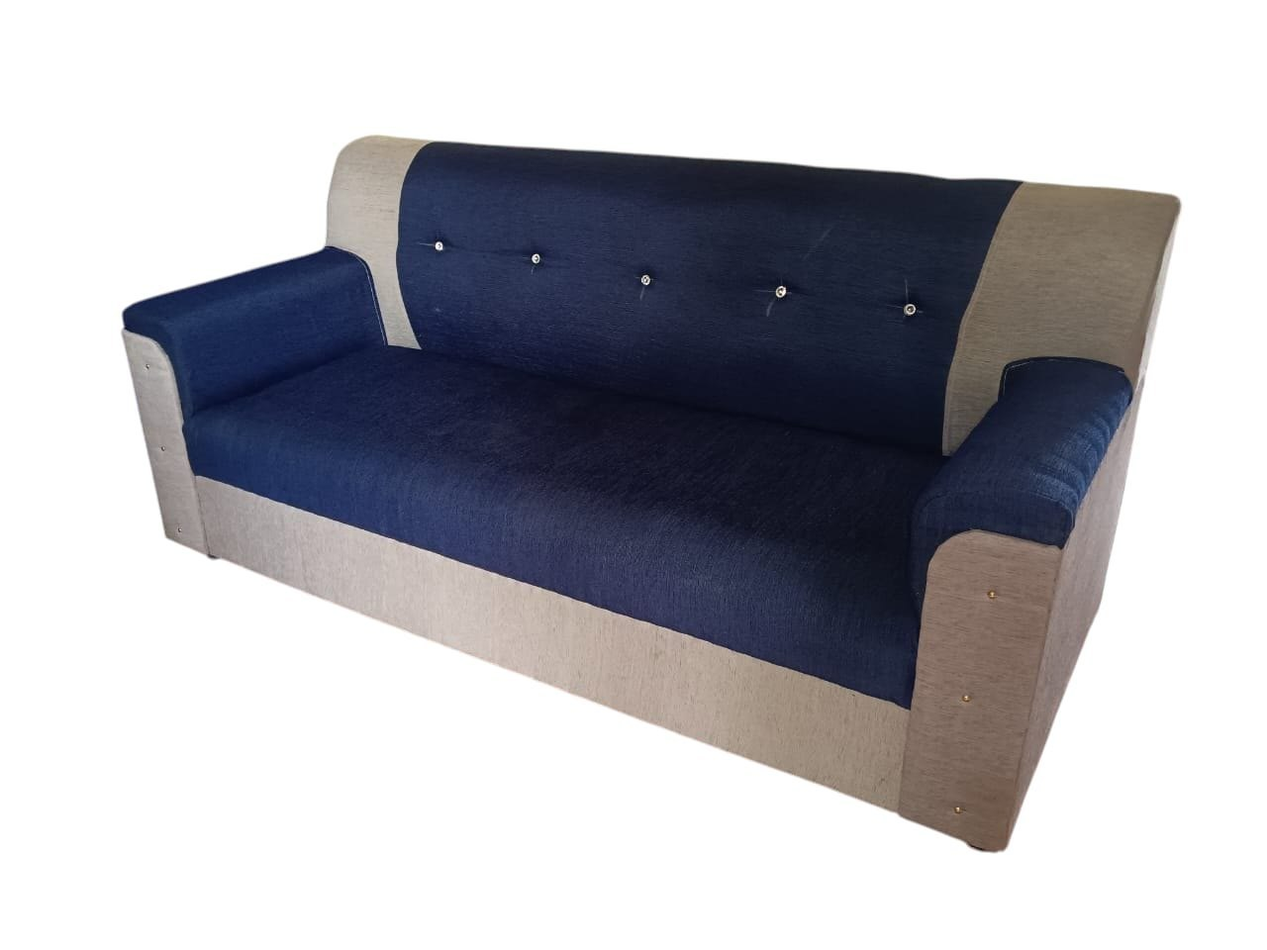3seatersofa: (122, 137, 1179, 850)
backrest: (328, 137, 1177, 453)
base: (198, 479, 907, 808)
leftarmrest: (900, 358, 1137, 849)
rightarmrest: (123, 248, 384, 552)
seat: (185, 345, 941, 707)
